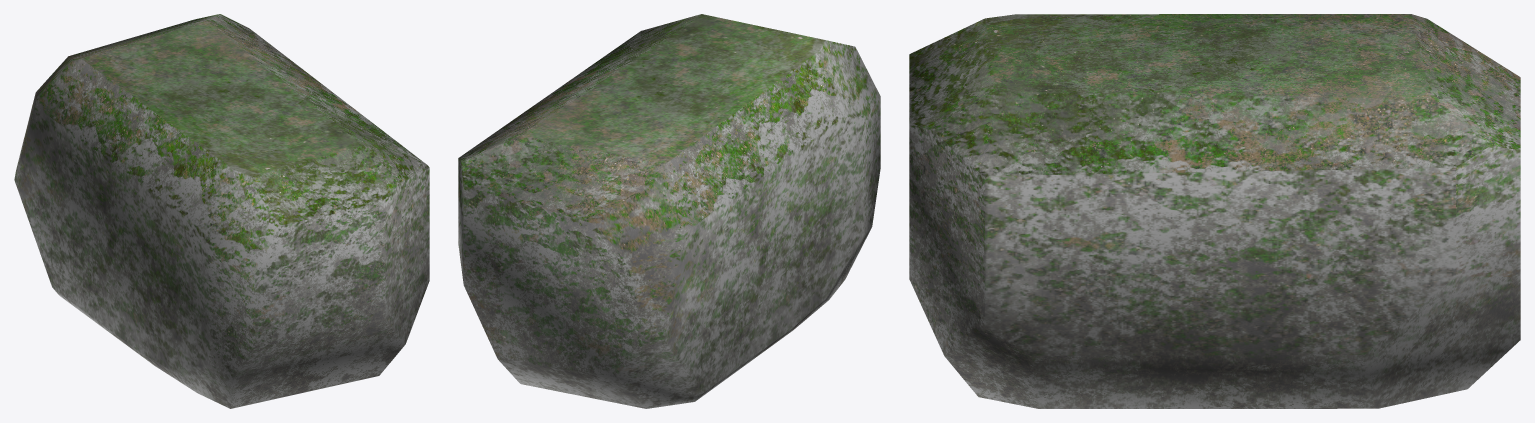
Rendered from Stone3.fbx.
3 views of the same model, side by side, from view 1: azimuth 30°, elevation 25°; view 2: azimuth 150°, elevation 25°; view 3: azimuth 270°, elevation 25° (orthographic). The views are drawn at different scales.
Parts seen in each view (by area): view 1: Stone3_LOD0; view 2: Stone3_LOD0; view 3: Stone3_LOD0.
Part boxes in pixels (<box>): Stone3_LOD0: <box>14,14,429,408</box>; Stone3_LOD0: <box>458,14,880,408</box>; Stone3_LOD0: <box>909,14,1520,408</box>.
Size of the model in its own units: 20.6 by 38.22 by 20.6.
Materials: 1 (1 with a texture image).
